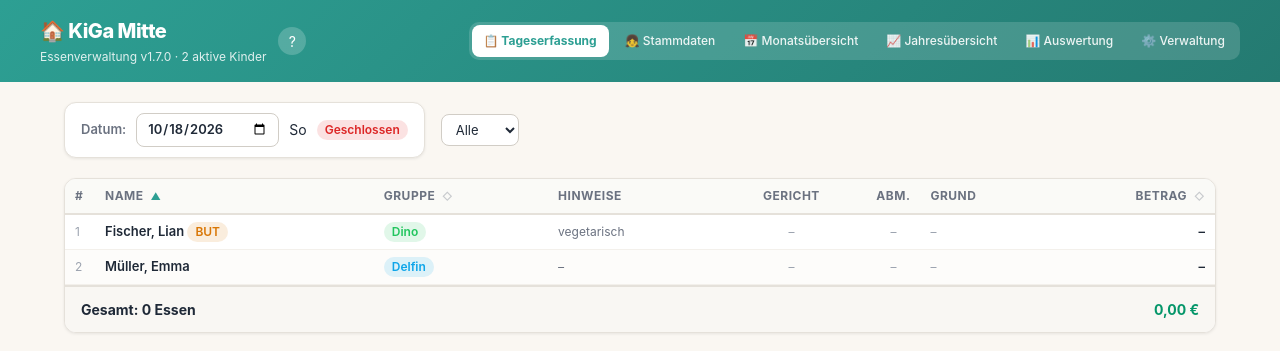
Test: App › filters children by group
The width and height of the screenshot is (1280, 351).
Expected: the text "Müller, Emma" is shown, [95, 249, 374, 284]
Expected: the text "Fischer, Lian" is shown, [105, 222, 184, 238]
# Filter to Delfin
Select "Delfin" in the dropdown at (480, 130), box [441, 114, 519, 146]
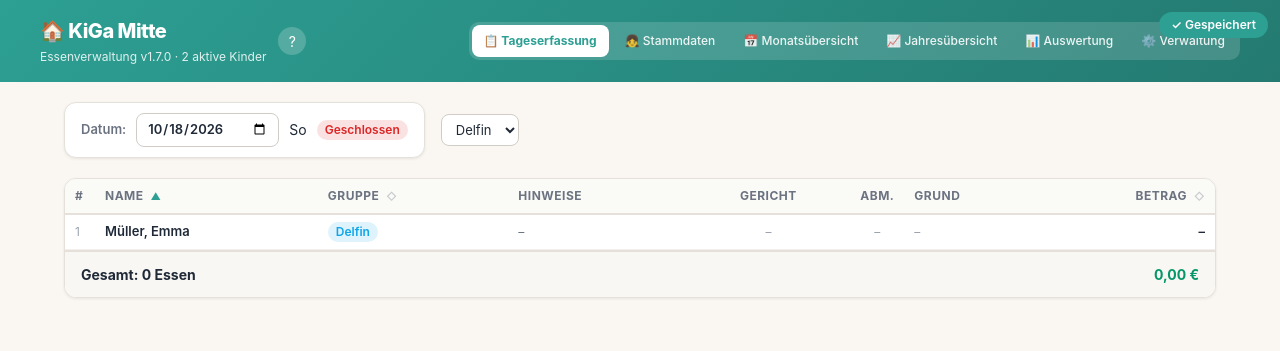
Expected: the text "Müller, Emma" is shown, [95, 214, 318, 249]
Now the text "Fischer, Lian" is gone
